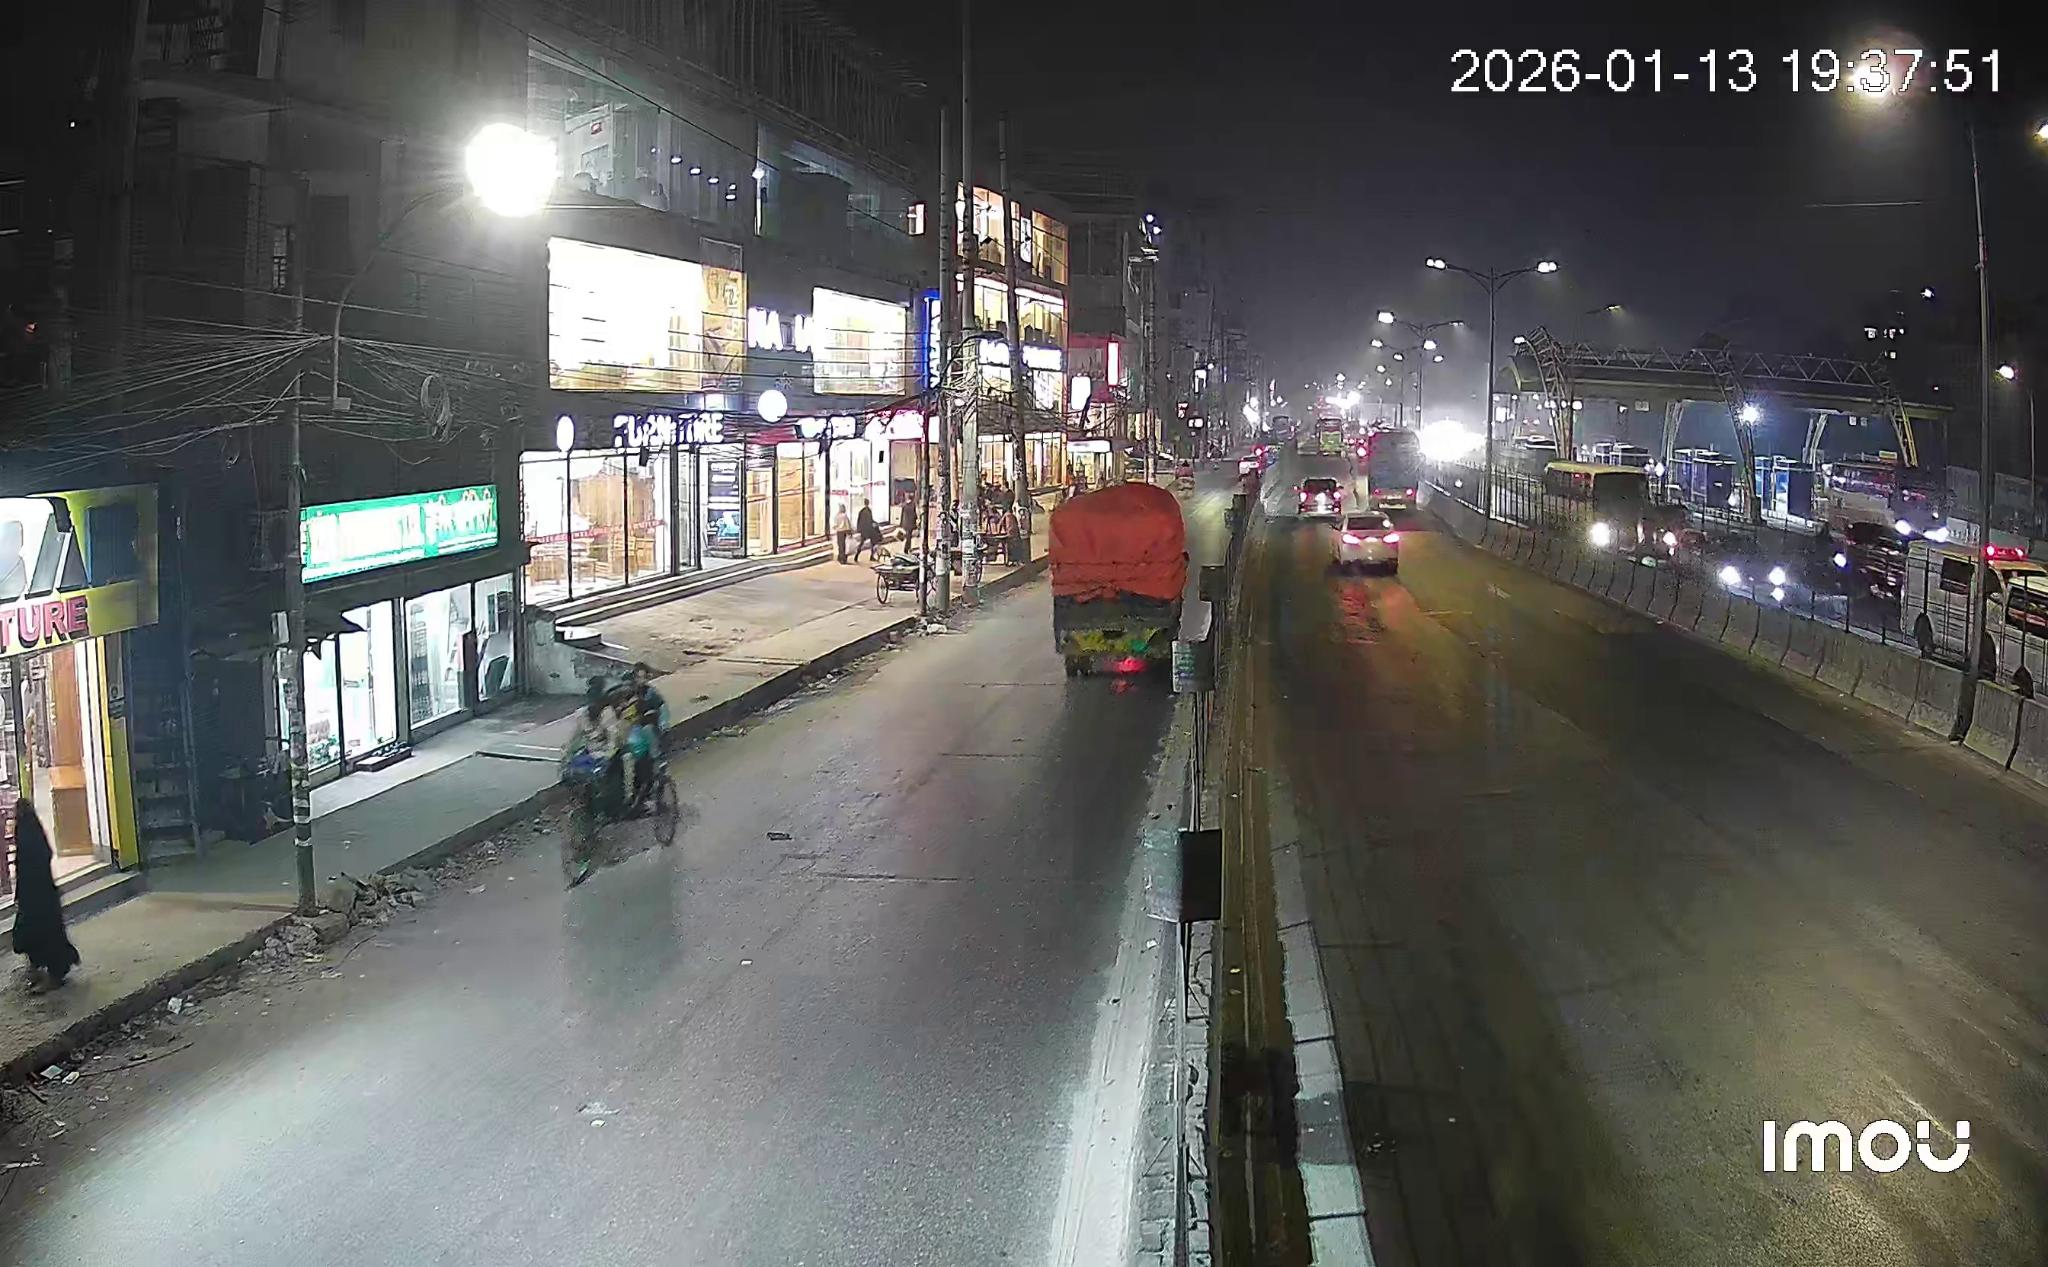Cycle Rickshaw: (560, 674, 680, 887)
Minibus: (1543, 462, 1649, 549)
Private-Sedan Car: (1298, 478, 1400, 574)
Truck: (1047, 483, 1189, 676)
